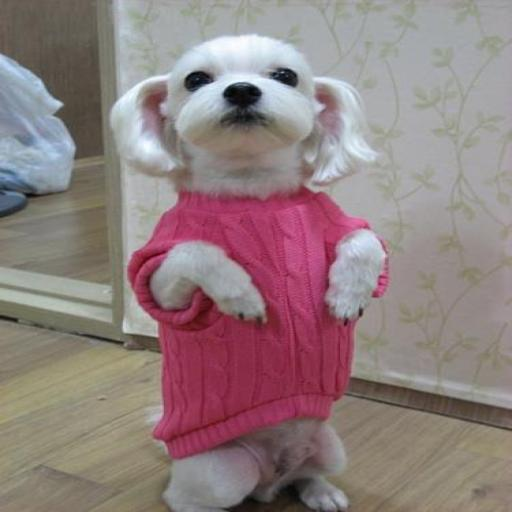dog_face: (162, 44, 306, 155)
